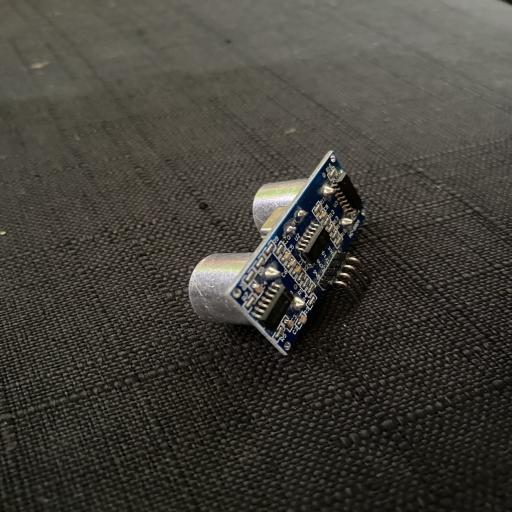Ultrasonic Sensor: (187, 148, 367, 356)
